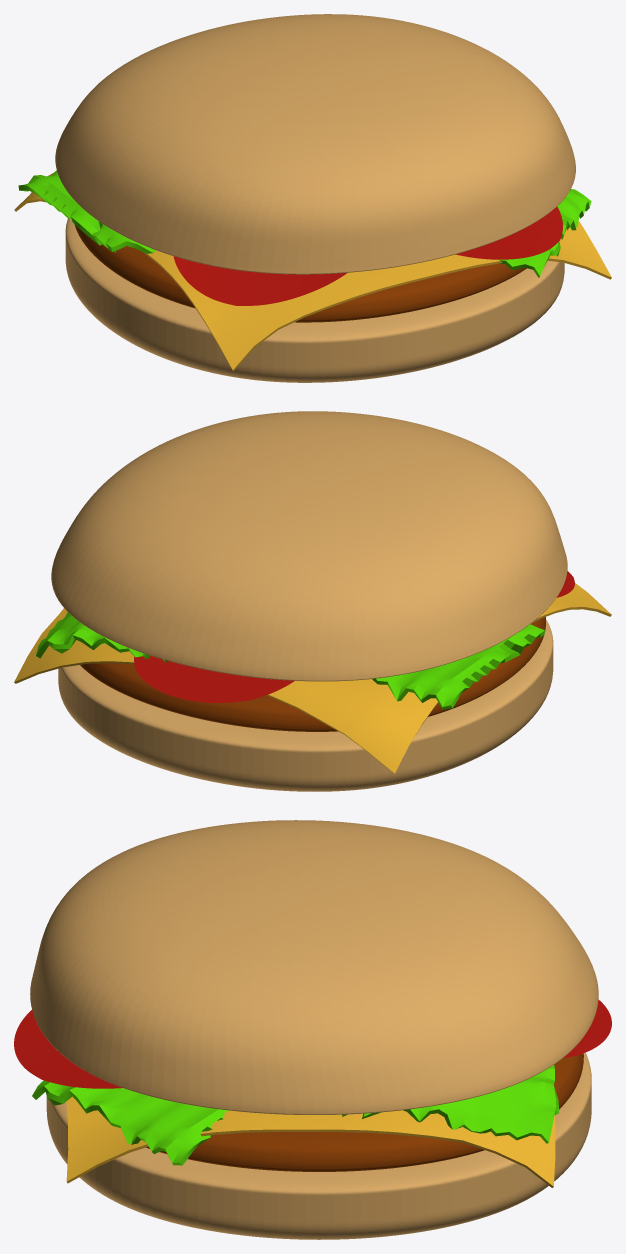
The model's file is hamburger.glb.
3 views of the same model, one above another, from view 1: azimuth 30°, elevation 25°; view 2: azimuth 150°, elevation 25°; view 3: azimuth 270°, elevation 25° (orthographic). The views are drawn at different scales.
Visible parts, largest first — view 1: Upper Bun, Lower Bun, Chees, Patty, Tomatos, Latuce, Latuce.001; view 2: Upper Bun, Lower Bun, Chees, Patty, Tomatos, Latuce, Latuce.001; view 3: Upper Bun, Lower Bun, Latuce.001, Chees, Patty, Tomatos.
Part boxes in pixels (box(x1,y1,x2,y2)): Upper Bun: box(55, 14, 575, 274); Lower Bun: box(65, 218, 564, 382); Chees: box(14, 173, 611, 371); Patty: box(75, 225, 526, 322); Tomatos: box(173, 206, 562, 305); Latuce: box(18, 170, 154, 253); Latuce.001: box(498, 189, 591, 277); Upper Bun: box(51, 411, 567, 681); Lower Bun: box(58, 619, 553, 791); Chees: box(14, 583, 611, 773); Patty: box(80, 617, 545, 731); Tomatos: box(134, 571, 574, 703); Latuce: box(372, 624, 544, 709); Latuce.001: box(36, 612, 167, 662); Upper Bun: box(30, 820, 598, 1114); Lower Bun: box(46, 1052, 591, 1239); Latuce.001: box(32, 1065, 559, 1165); Chees: box(66, 1096, 555, 1187); Patty: box(146, 1053, 583, 1171); Tomatos: box(14, 999, 611, 1088).
Bounding box in the file's own units: 97.22 × 55.49 × 102.
